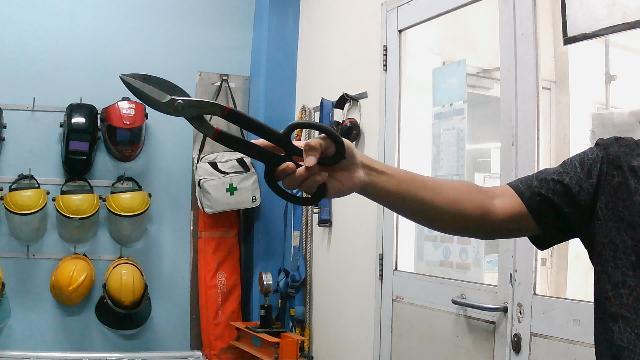gunting_plat: (103, 39, 360, 225)
